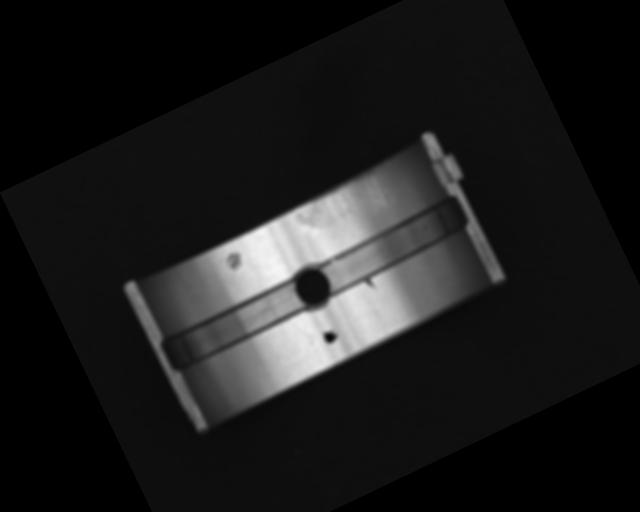blot: (320, 325, 340, 346)
bruise: (222, 248, 248, 275), (362, 276, 376, 292)
gap: (313, 193, 471, 297), (155, 274, 313, 376)
hole: (286, 257, 340, 315)
nick: (366, 296, 386, 330)
scratch: (289, 166, 395, 241)
